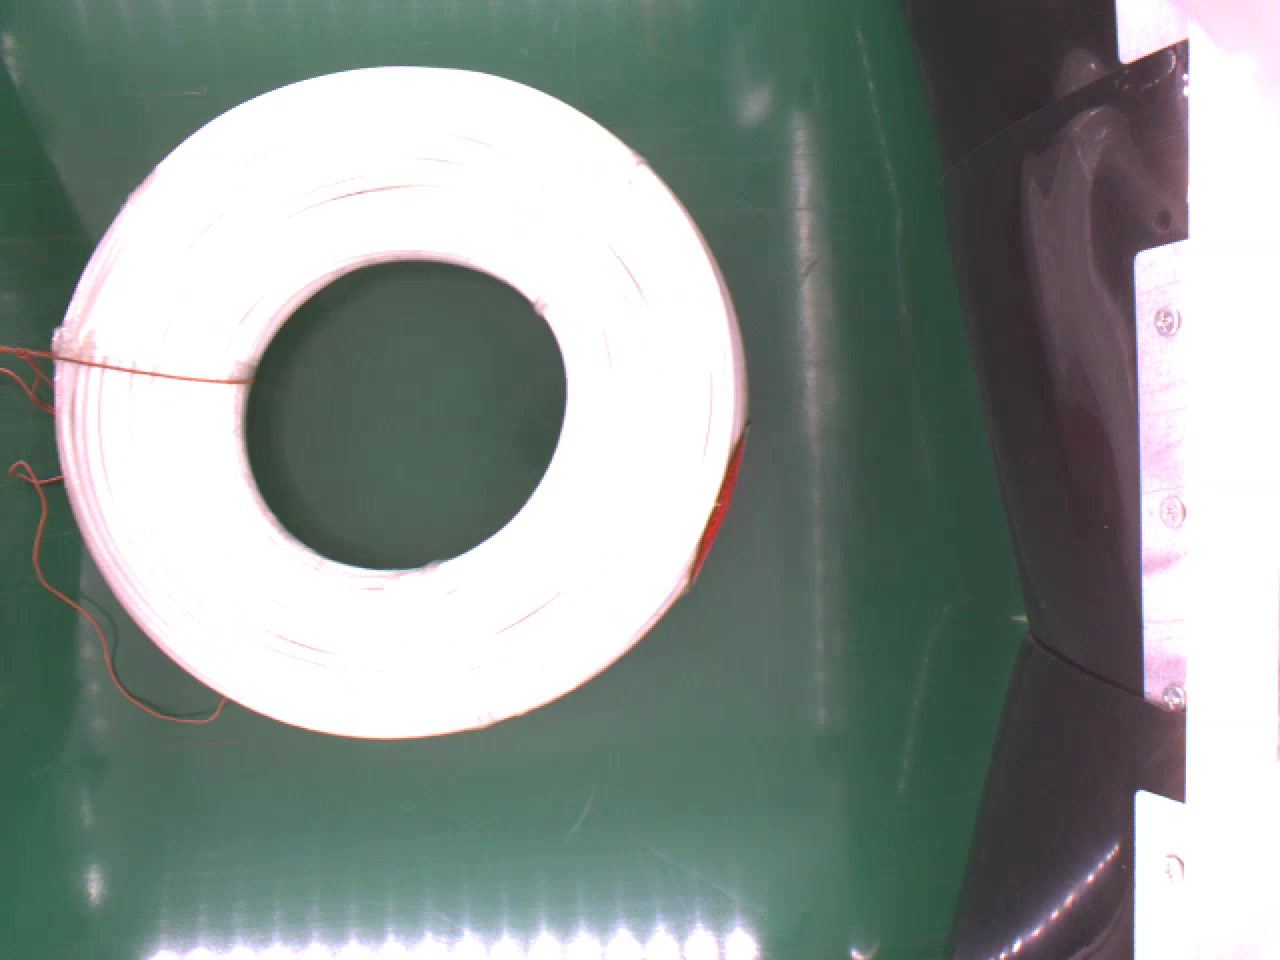white: (37, 67, 747, 739)
